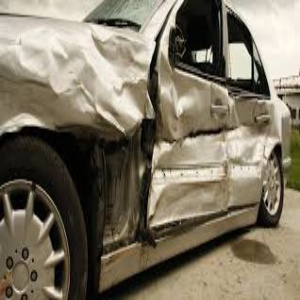door: (157, 109, 269, 215)
